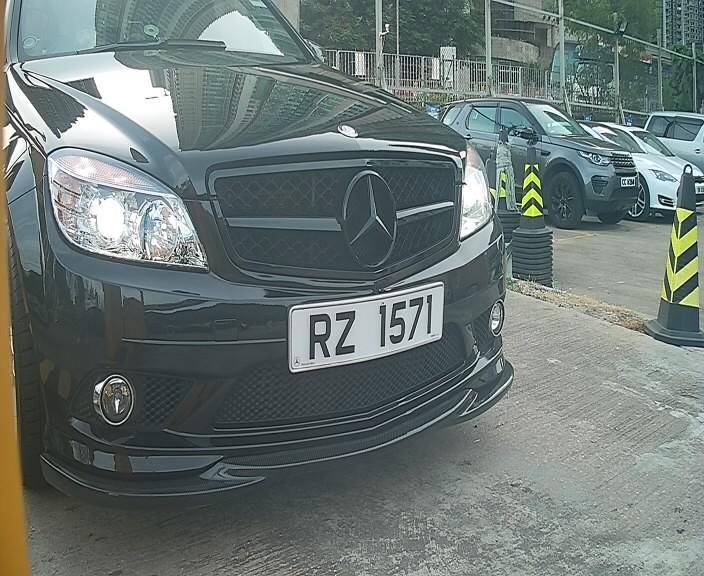privatecar: (13, 21, 541, 497)
